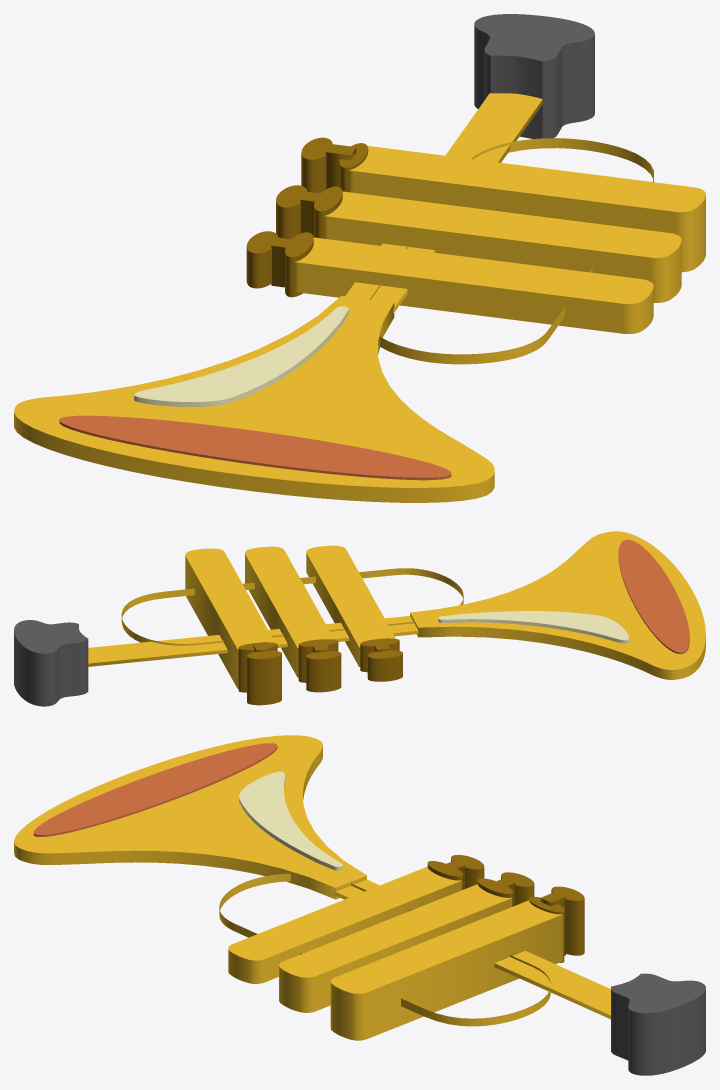
The model's file is emoji_u1f3ba.glb.
3 renders of one model, top to bottom at view 1: azimuth 30°, elevation 25°; view 2: azimuth 150°, elevation 25°; view 3: azimuth 270°, elevation 25°, orthographic. The views are drawn at different scales.
Parts seen in each view (by area): view 1: emoji_u1f3ba; view 2: emoji_u1f3ba; view 3: emoji_u1f3ba.
Boxes of the visible parts, x1=… form: emoji_u1f3ba: x1=14, y1=14, x2=705, y2=502; emoji_u1f3ba: x1=14, y1=531, x2=705, y2=706; emoji_u1f3ba: x1=14, y1=735, x2=705, y2=1075.
Bounding box in the file's own units: 0.0333 × 0.0032 × 0.0321.
